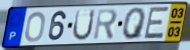6: (47, 10, 68, 43)
E: (142, 6, 171, 41)
O: (24, 11, 47, 44)
Q: (121, 6, 147, 41)
R: (92, 7, 120, 42)
U: (71, 8, 97, 42)
